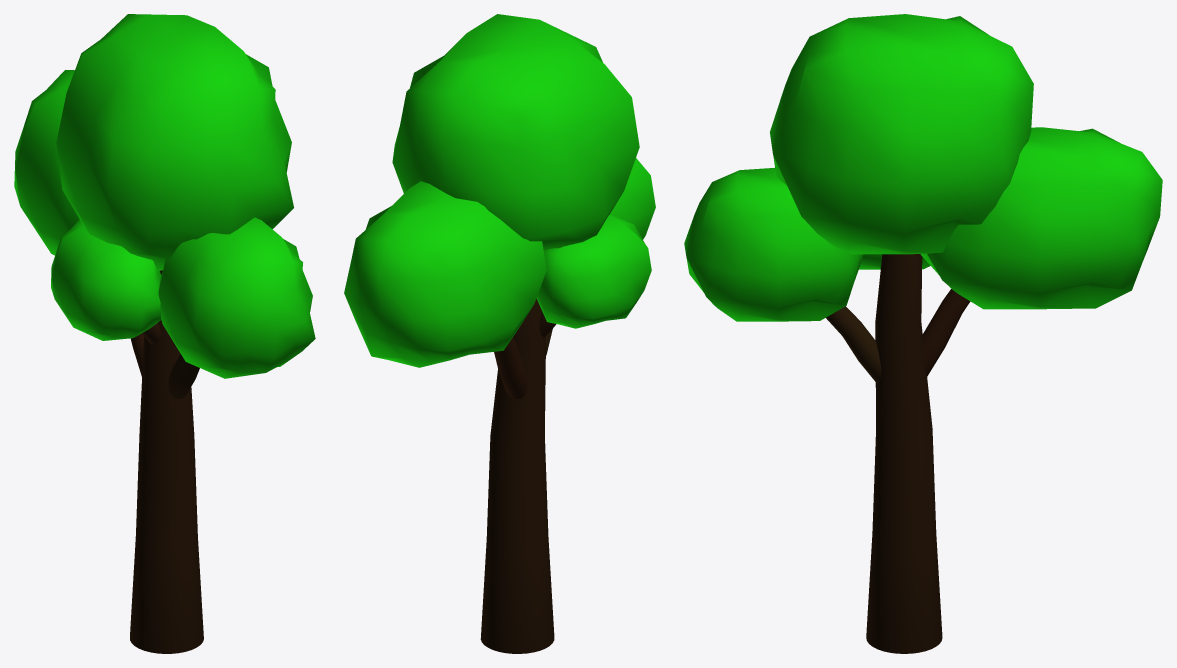
Rendered from Tree.fbx.
3 renders of one model, left to right at view 1: azimuth 30°, elevation 25°; view 2: azimuth 150°, elevation 25°; view 3: azimuth 270°, elevation 25°, orthographic. The views are drawn at different scales.
Visible parts, largest first — view 1: Tree; view 2: Tree; view 3: Tree.
Boxes of the visible parts, x1,y1,x2,y2 form: Tree: (14, 14, 315, 653); Tree: (344, 14, 655, 653); Tree: (684, 14, 1162, 653).
Size of the model in its own units: 152 by 392 by 276.
